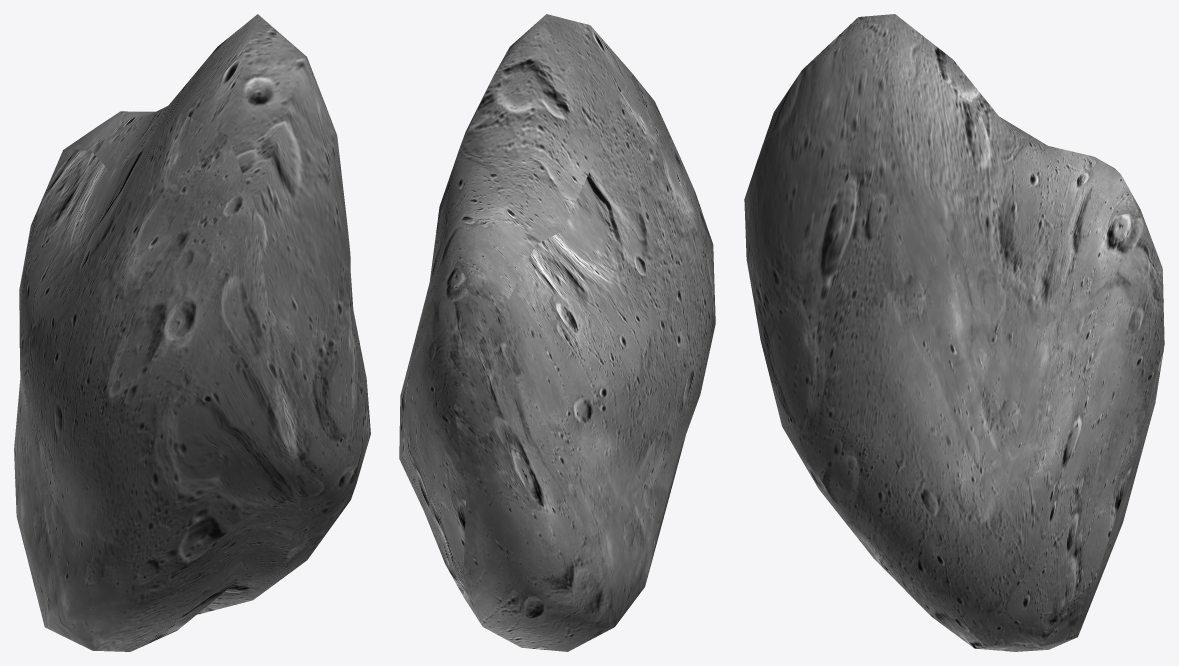
File: asteroid05.FBX
3 views of the same model, side by side, from view 1: azimuth 30°, elevation 25°; view 2: azimuth 150°, elevation 25°; view 3: azimuth 270°, elevation 25° (orthographic). The views are drawn at different scales.
Visible parts, largest first — view 1: Asteroid005; view 2: Asteroid005; view 3: Asteroid005.
Part boxes in pixels (box(x1,y1,x2,y2)): Asteroid005: box(14, 14, 370, 651); Asteroid005: box(399, 14, 715, 651); Asteroid005: box(744, 14, 1164, 651).
Size of the model in its own units: 74.73 by 154 by 88.84.
Materials: 1 (1 with a texture image).
